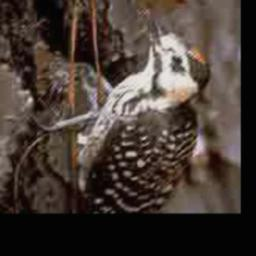Woodpecker: (42, 0, 209, 209)
